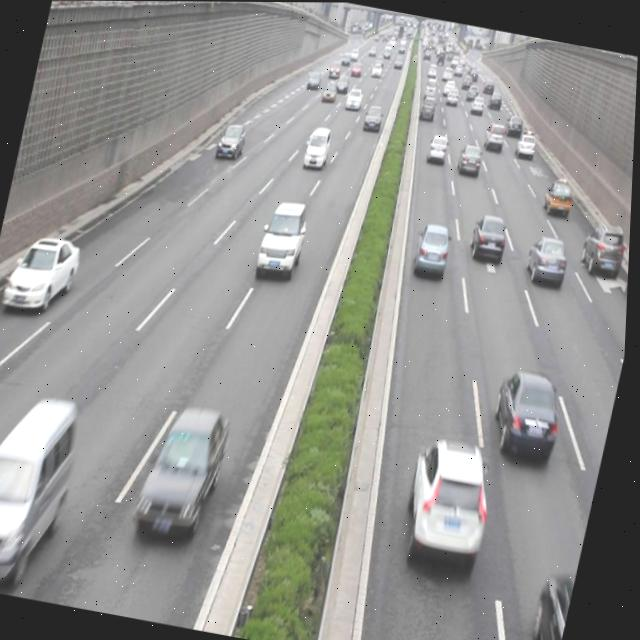car: (135, 398, 238, 542), (401, 432, 504, 559), (489, 362, 571, 460), (3, 228, 86, 318), (256, 194, 314, 279), (524, 564, 581, 640), (577, 214, 630, 278), (412, 217, 456, 278), (526, 232, 574, 287), (468, 208, 511, 264), (541, 173, 577, 216), (302, 123, 334, 170), (216, 119, 249, 160), (455, 140, 485, 176), (424, 128, 451, 164), (363, 101, 385, 128)
truck: (0, 386, 89, 586)
